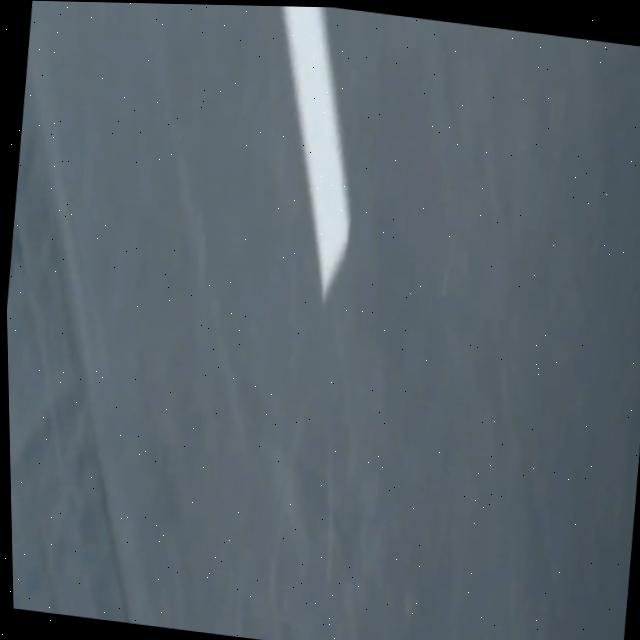center: (281, 6, 349, 300)
